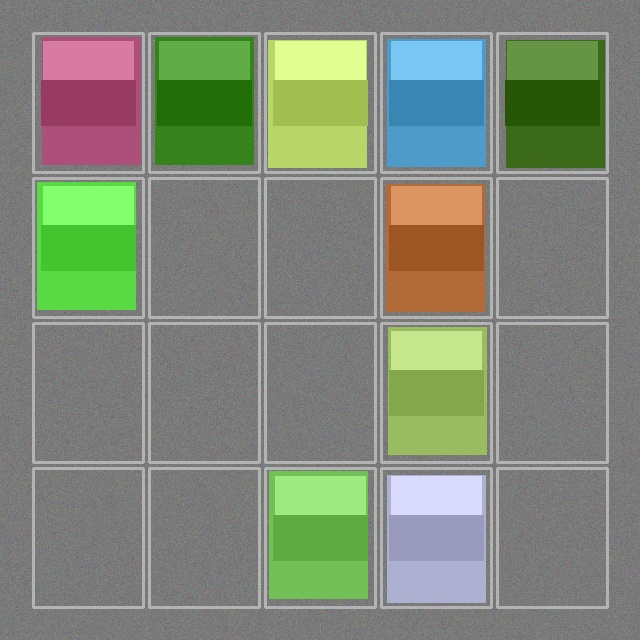space-empty: (151, 180, 257, 315), (267, 180, 373, 315), (499, 180, 605, 315), (35, 325, 141, 460), (151, 325, 257, 460), (267, 325, 373, 460), (499, 325, 605, 460), (35, 470, 141, 605), (151, 470, 257, 605), (499, 470, 605, 605)
space-occupied: (35, 35, 141, 170), (151, 35, 257, 170), (267, 35, 373, 170), (383, 35, 489, 170), (499, 35, 605, 170), (35, 180, 141, 315), (383, 180, 489, 315), (383, 325, 489, 460), (267, 470, 373, 605), (383, 470, 489, 605)
